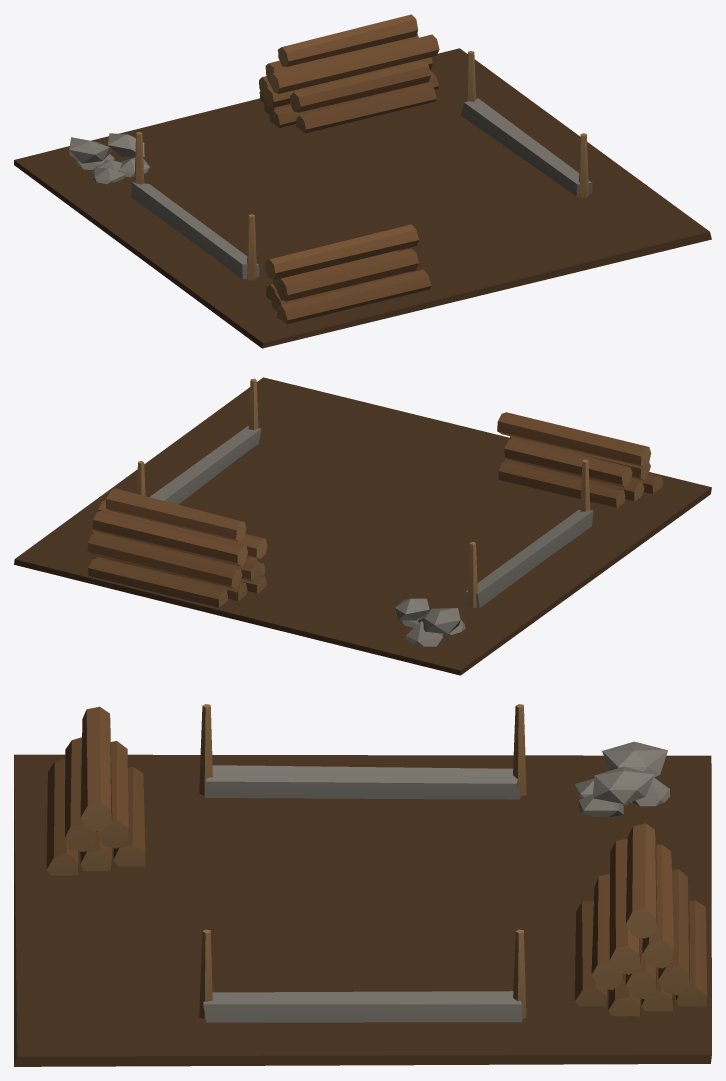
Rendered from town_center_s0.glb.
The picture shows the model from 3 angles, top to bottom: view 1: azimuth 30°, elevation 25°; view 2: azimuth 150°, elevation 25°; view 3: azimuth 270°, elevation 25°; orthographic projection. The views are drawn at different scales.
Visible parts, largest first — view 1: town_center_s0; view 2: town_center_s0; view 3: town_center_s0.
Boxes of the visible parts, <box> form: town_center_s0: <box>14,14,711,348</box>; town_center_s0: <box>14,377,711,675</box>; town_center_s0: <box>14,704,711,1066</box>.
Size of the model in its own units: 3.11 by 0.527 by 3.01.
